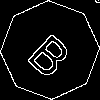B: (25, 25, 80, 81)
